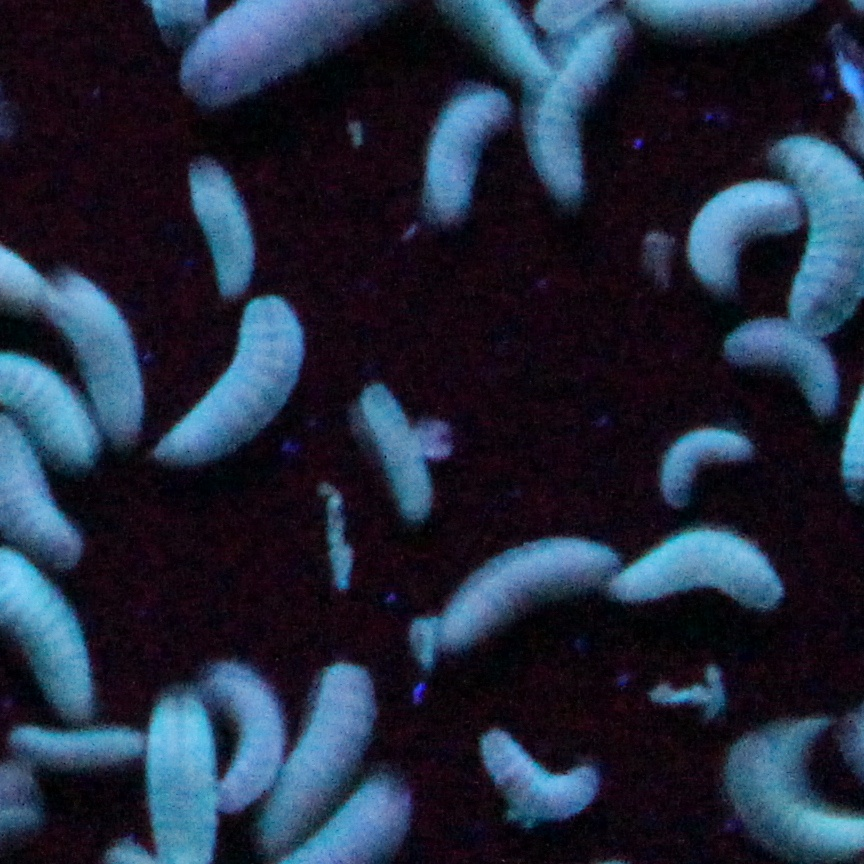larve: (159, 302, 306, 469), (412, 549, 619, 642), (726, 729, 859, 856), (272, 656, 372, 822), (531, 24, 618, 214), (66, 275, 134, 462), (632, 522, 772, 609), (486, 722, 606, 822), (359, 382, 439, 529), (152, 696, 219, 856), (432, 82, 506, 222), (186, 162, 252, 309), (659, 416, 752, 516), (686, 182, 766, 296), (14, 724, 144, 769)
